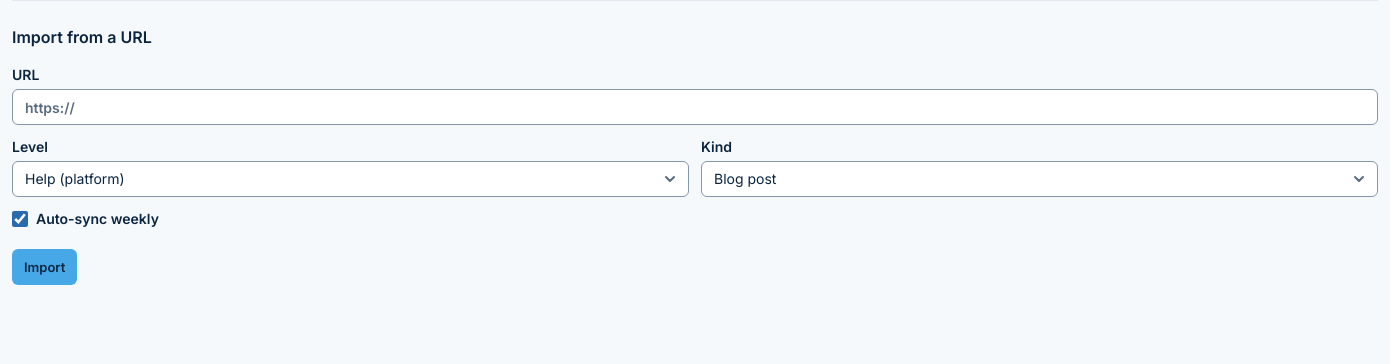
it: ImportPanel › stops polling and shows fetch_failed copy when status throws
Type "https://x.example/a" into the field labelled "URL".
click(695, 107); type("https://x.example/a")  # box top-left (12, 89), bottom-right (1378, 125)
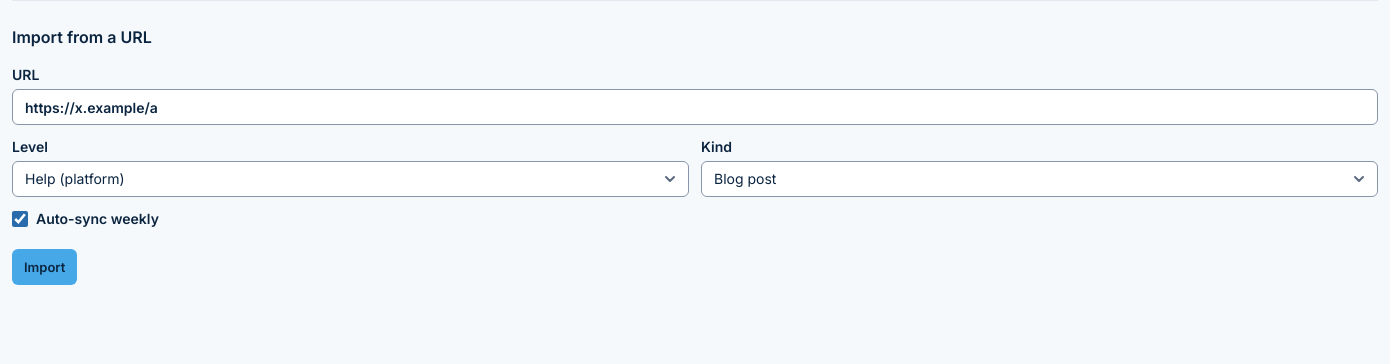
Submit the form "Import", box top-left (12, 65), bottom-right (1378, 285)
Wait 6000 ms
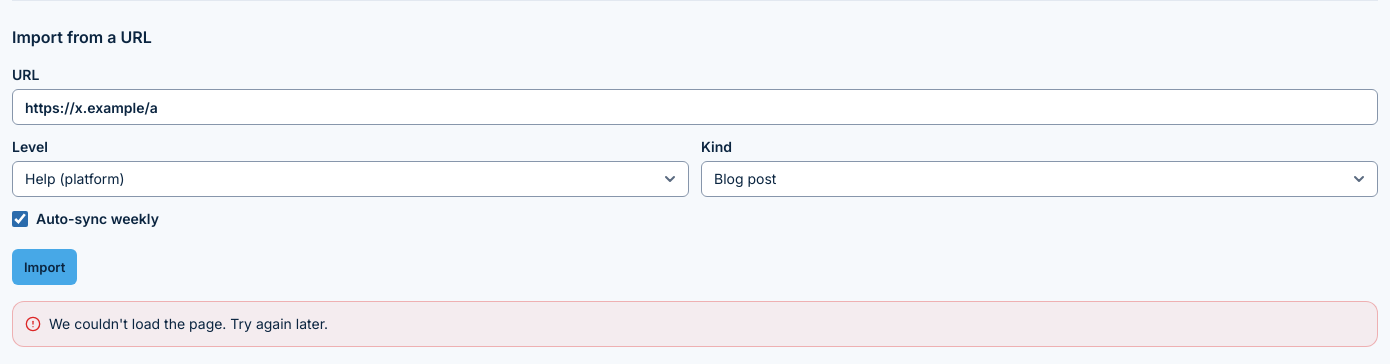
Expected: the message reads "We couldn't load the page. Try again later.", top-left (49, 315), bottom-right (328, 332)
